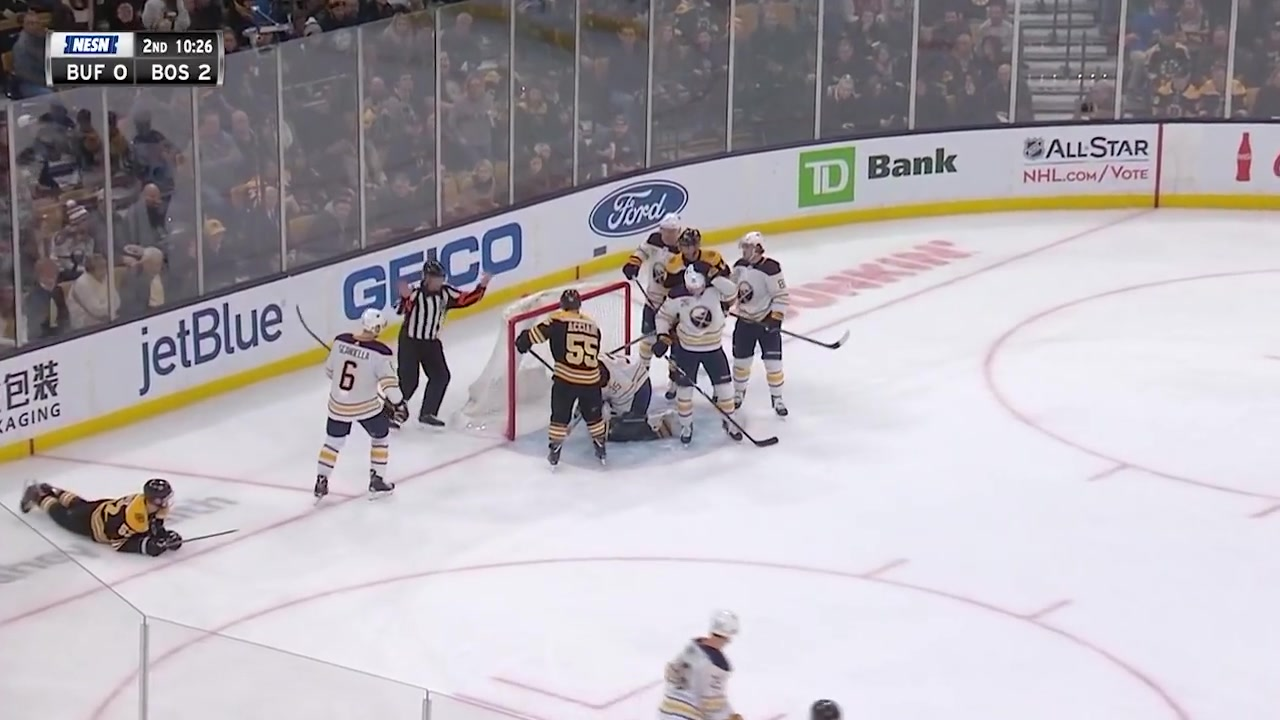Geico: (336, 218, 537, 317)
